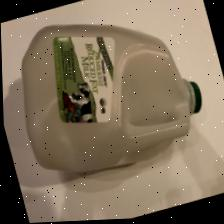plastic: (21, 27, 202, 174)
